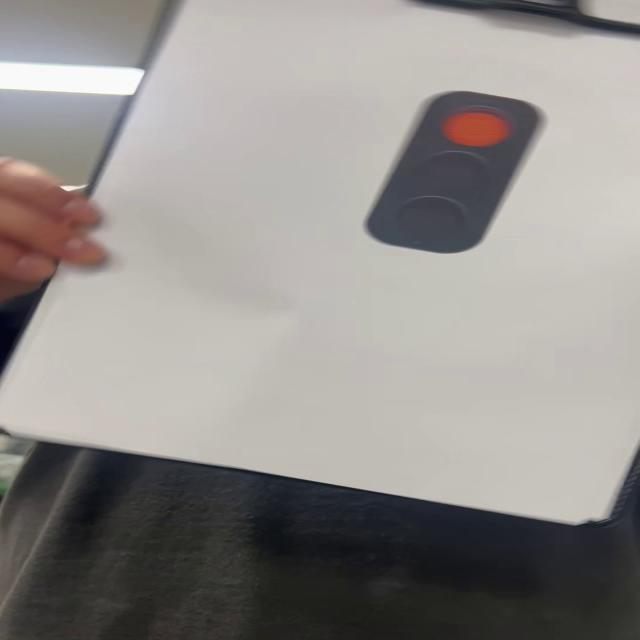red: (358, 92, 550, 257)
